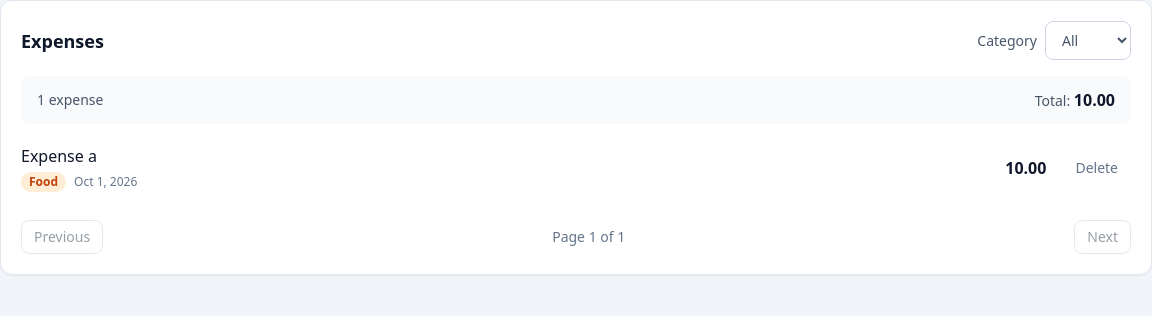
Test: ExpenseList › deletes only after confirmation
Click the button with aria-label "Delete Expense a". click: (1097, 168)
box: [1062,151,1131,185]
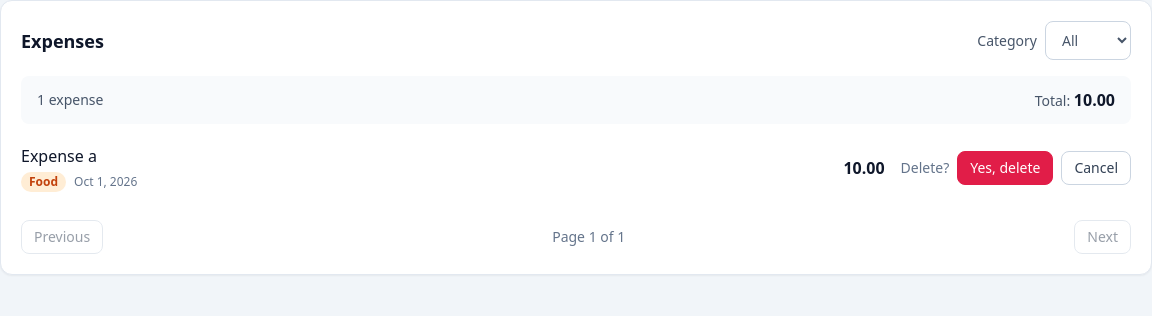
Click the button "Cancel". click: (1096, 168)
box: [1061,151,1131,185]
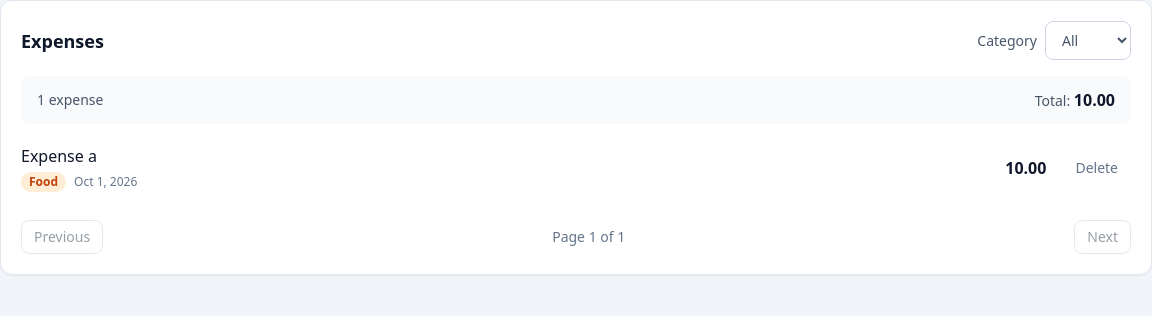
Click the button with aria-label "Delete Expense a". click: (1097, 168)
box: [1062,151,1131,185]
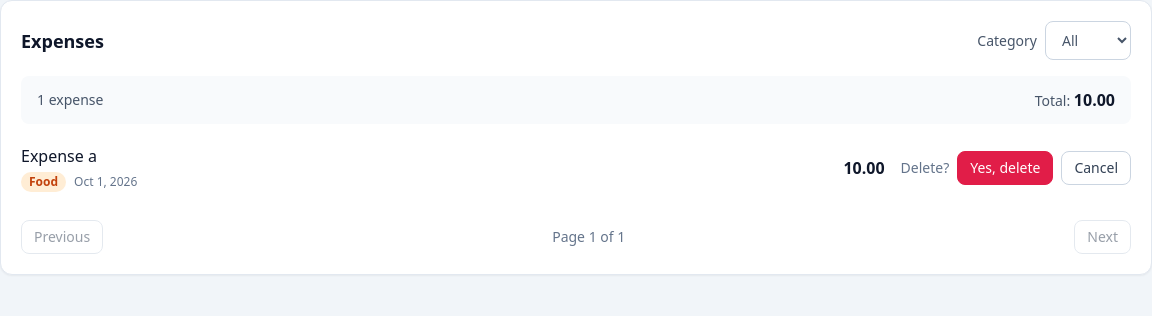
Click the button "Yes, delete". click: (1005, 168)
box: [957,151,1053,185]
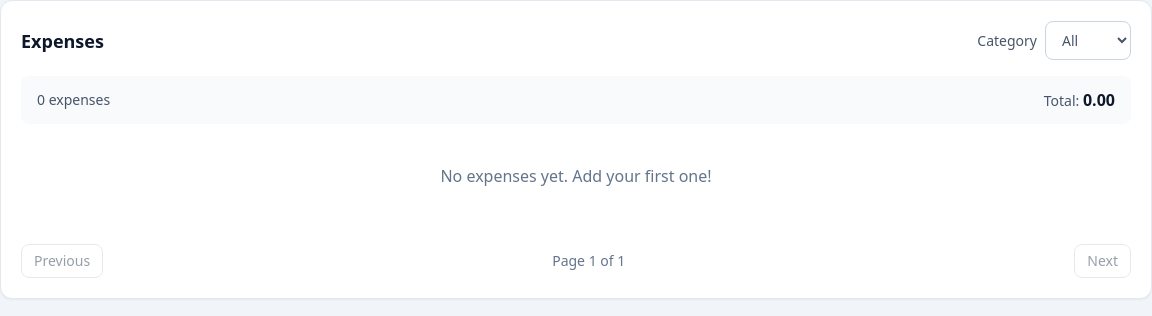
Expected: the text "No expenses yet. Add your first one!" is shown, [440,165,712,187]
